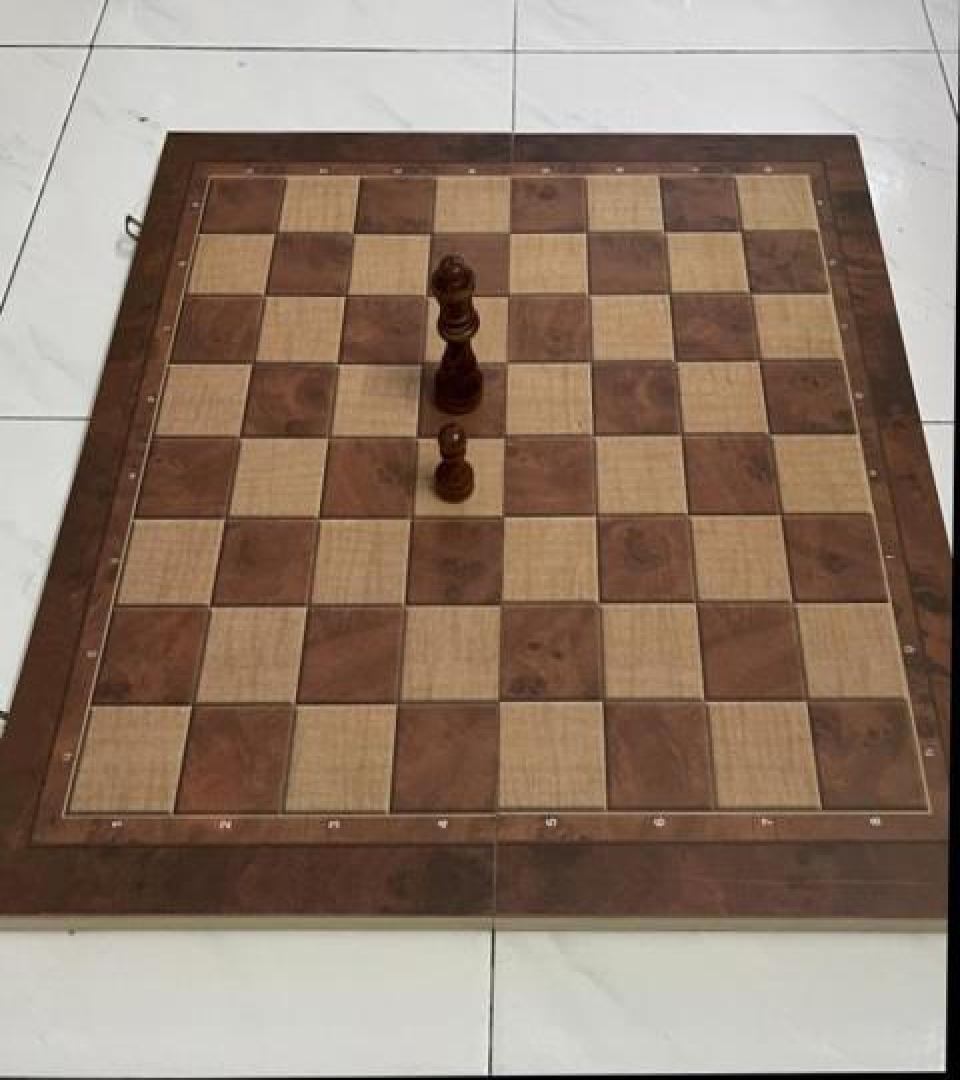xcorner: (722, 210, 758, 251), (643, 210, 679, 251), (730, 272, 766, 313), (649, 272, 685, 313), (567, 273, 603, 314), (486, 273, 522, 314), (484, 415, 520, 456), (396, 415, 432, 456), (307, 415, 343, 456), (219, 416, 255, 457), (298, 496, 334, 537), (206, 496, 242, 537), (565, 212, 601, 252), (487, 212, 523, 252), (409, 213, 445, 253), (331, 213, 367, 253), (254, 213, 290, 253), (405, 275, 441, 315), (324, 275, 360, 315), (243, 276, 279, 316), (740, 340, 776, 380), (655, 340, 691, 380), (570, 341, 606, 381), (485, 341, 521, 381), (401, 342, 437, 382), (316, 342, 352, 382), (232, 342, 268, 382), (750, 413, 786, 453), (661, 414, 697, 454), (573, 414, 609, 454), (761, 494, 797, 534), (668, 494, 704, 534), (575, 495, 611, 535), (483, 495, 519, 535), (390, 495, 426, 535), (774, 582, 810, 622), (676, 583, 712, 623), (579, 583, 615, 623), (481, 583, 517, 623), (384, 584, 420, 624), (287, 584, 323, 624), (191, 584, 227, 624), (787, 680, 823, 720), (685, 680, 721, 720), (582, 681, 618, 721), (480, 681, 516, 721), (378, 681, 414, 721), (276, 682, 312, 722), (174, 682, 210, 722)
